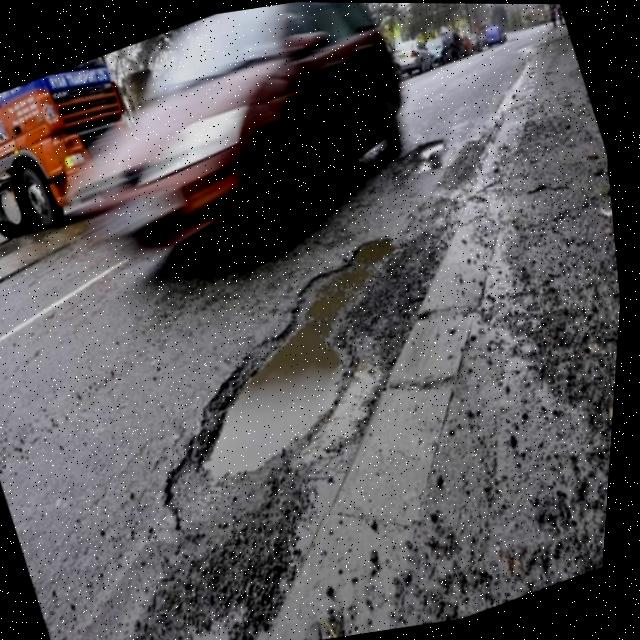Pothole: (181, 344, 369, 497), (305, 228, 411, 320), (411, 132, 451, 167)
